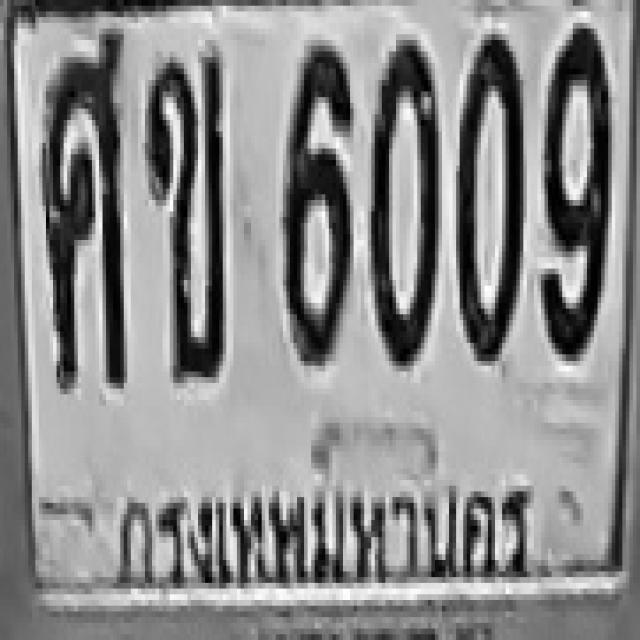0: (368, 34, 438, 366), (454, 29, 522, 360)
11KhorKhai: (145, 49, 223, 380)
47SorSala: (41, 28, 126, 383), (39, 60, 124, 386), (39, 31, 124, 312)
6: (281, 43, 352, 363)
9: (541, 20, 608, 357)
Bangkok: (105, 474, 546, 616)
